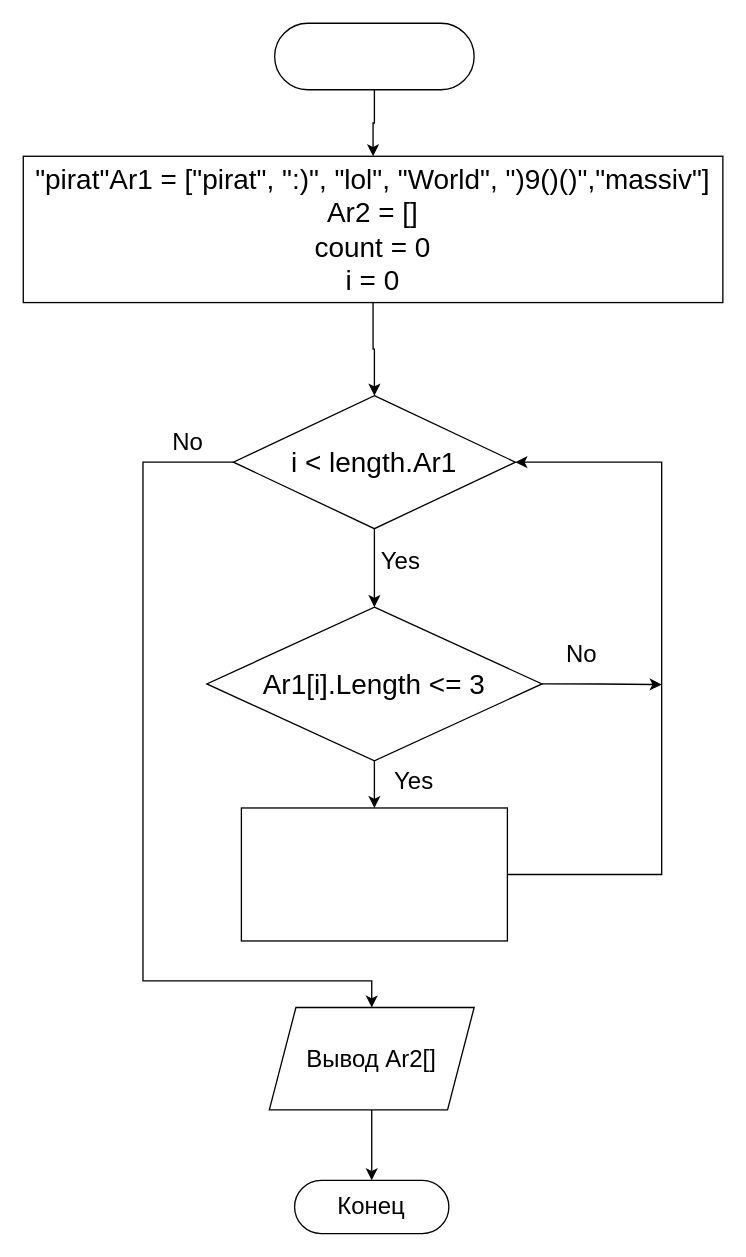
This 746x1257 diagram has some shape labels left out. Each missing label, with the centre of its shape:
"count = count +1 i = i + 1 Ar2[count] = Ar1[i]" belongs at pixel 373 874.
"Начало" belongs at pixel 373 56.
